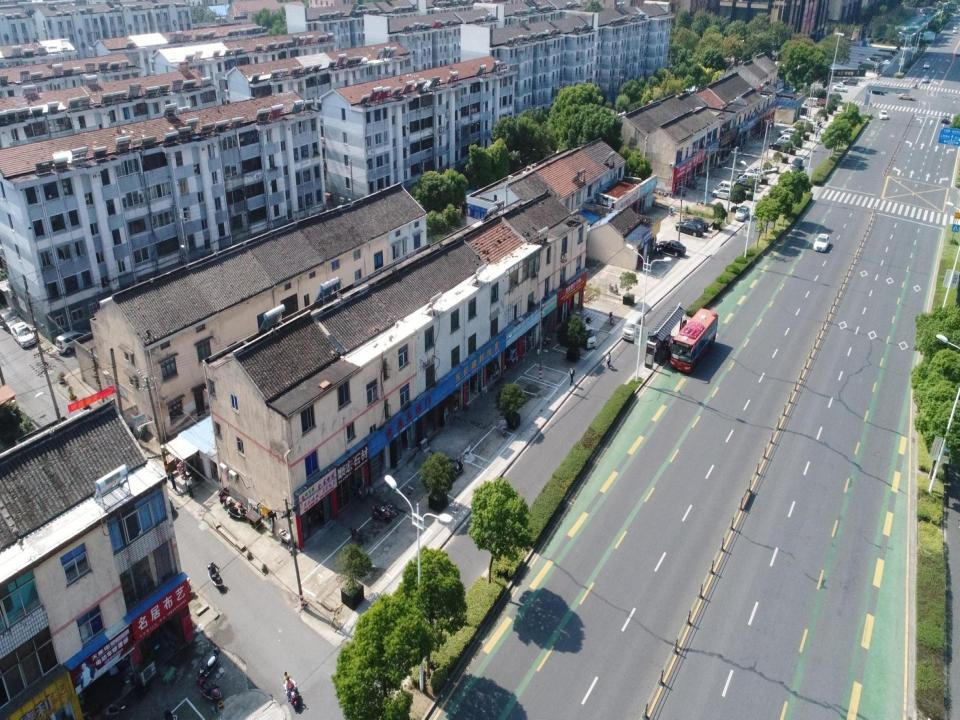bus: (667, 304, 719, 376)
car: (53, 325, 95, 358), (10, 319, 39, 350), (0, 306, 26, 339), (654, 234, 686, 256), (675, 220, 705, 242), (811, 230, 833, 252), (710, 184, 734, 200), (745, 166, 766, 182), (770, 139, 794, 152), (693, 216, 712, 230), (736, 203, 750, 222), (739, 170, 756, 185), (716, 180, 737, 190), (790, 155, 804, 170), (781, 128, 799, 138), (777, 134, 794, 144), (841, 76, 858, 86), (898, 92, 916, 101), (868, 89, 884, 97), (834, 85, 848, 93), (879, 109, 889, 120), (922, 75, 933, 85), (940, 114, 948, 124), (922, 61, 928, 69), (954, 28, 957, 33)
van: (620, 311, 645, 343), (579, 319, 598, 350), (806, 96, 818, 108)
